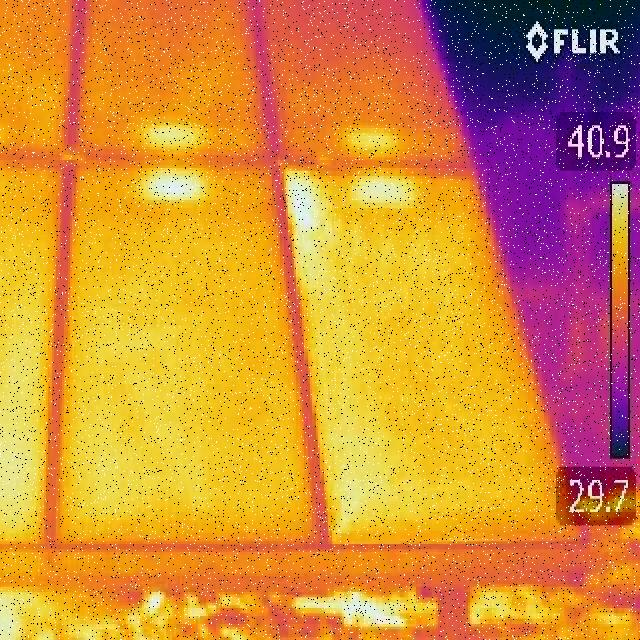Hotspot: (283, 165, 334, 295), (350, 171, 427, 217), (140, 112, 212, 158), (338, 122, 413, 162), (138, 163, 206, 207)
